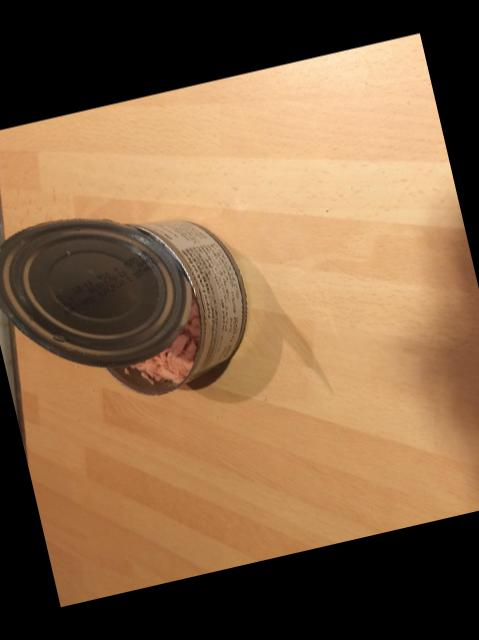metal: (0, 219, 244, 395)
